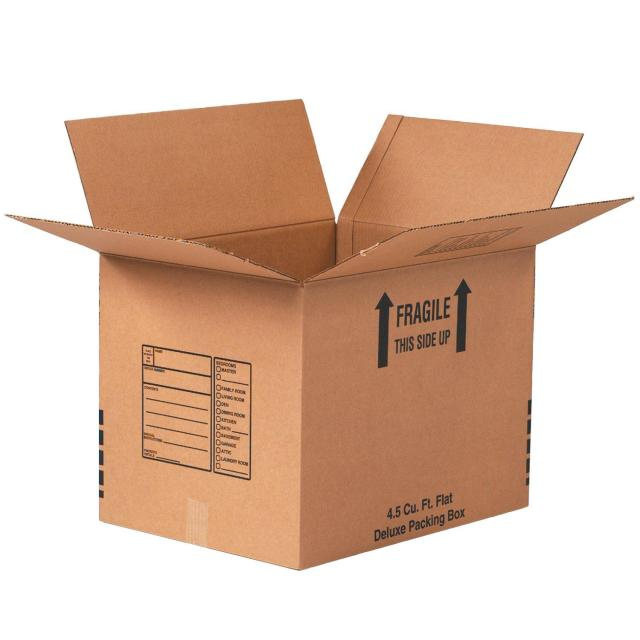cardboard: (3, 99, 581, 570)
